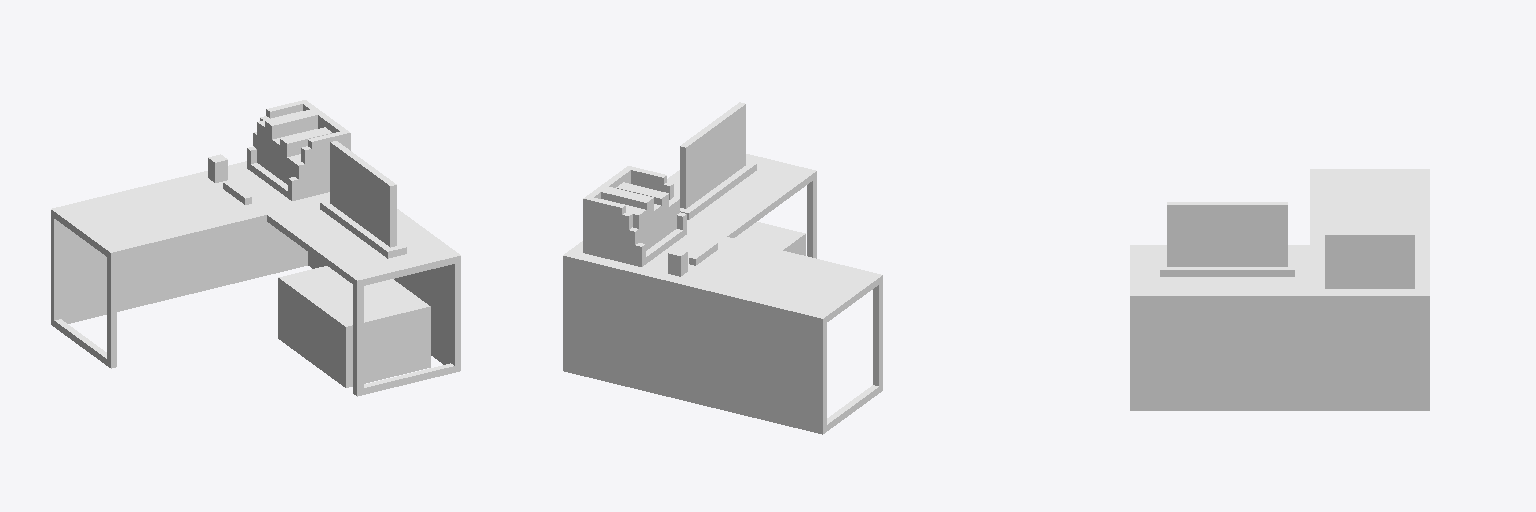
The model's file is mesh_prop_office_desk.obj.
3 views of the same model, side by side, from view 1: azimuth 30°, elevation 25°; view 2: azimuth 150°, elevation 25°; view 3: azimuth 270°, elevation 25° (orthographic).
Visible parts, largest first — view 1: object 1; view 2: object 1; view 3: object 1.
Boxes of the visible parts, <box> form: object 1: <box>51,100,460,396</box>; object 1: <box>563,102,882,434</box>; object 1: <box>1130,169,1429,410</box>.
Size of the model in its own units: 4 by 2.7 by 4.